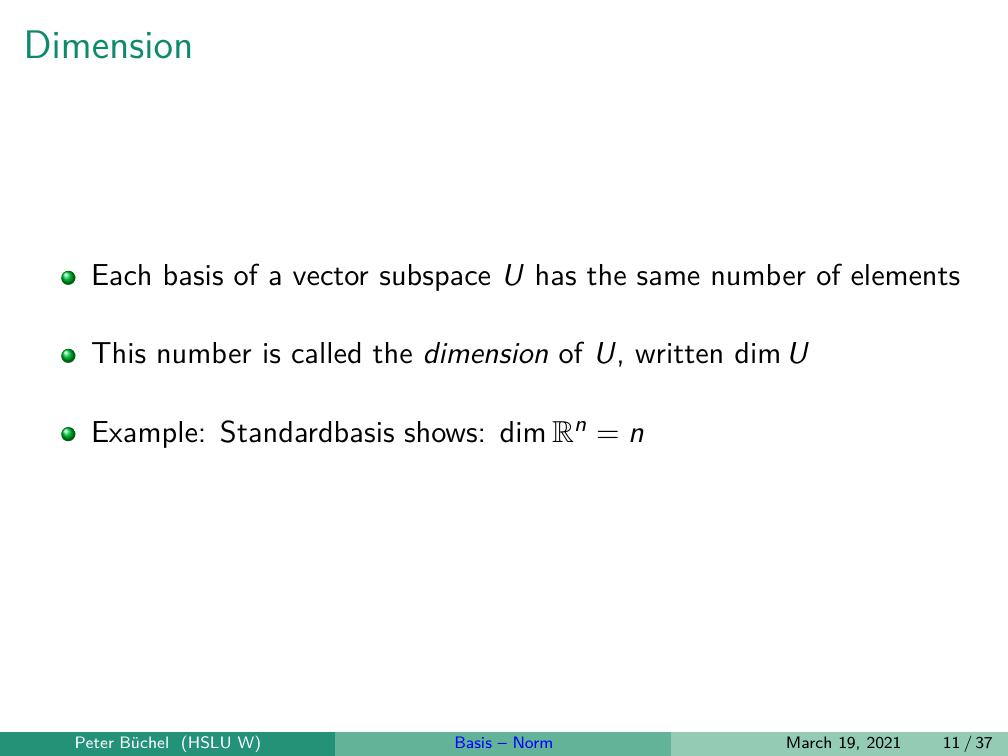Title: (16, 19, 202, 72)
